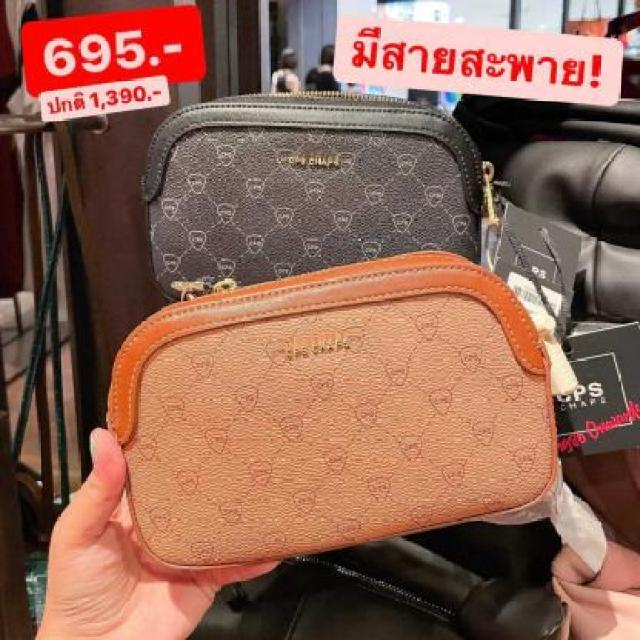Bag: (63, 238, 579, 565), (110, 72, 536, 338)
